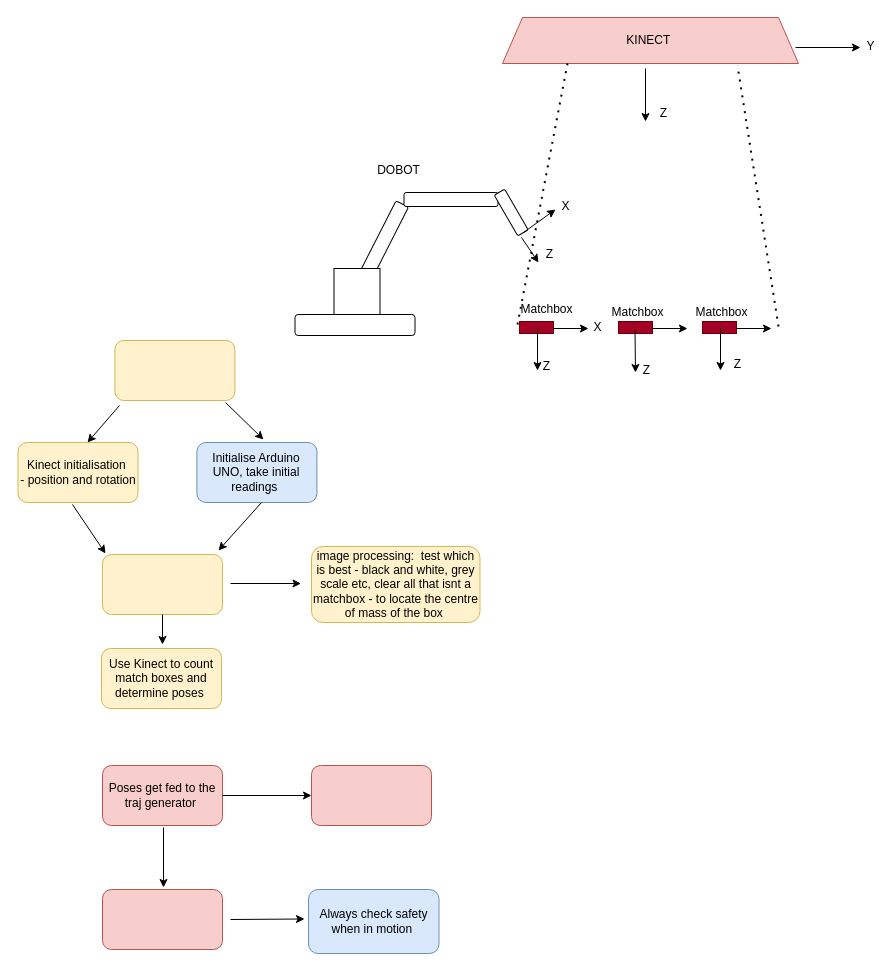
This 896x971 diagram has some shape labels left out. Each missing label, with the centre of its shape:
Dobot outputs trajectories to pick and place matchboxes: (x=162, y=919)
RMRC: (x=371, y=795)
take initial photo of workspace, perform image processing: (x=162, y=584)
User inputs Load Dobot on GUI: (x=174, y=370)
